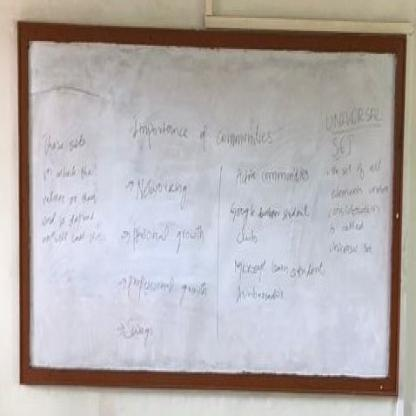Handwritten text: (127, 107, 274, 152), (124, 268, 209, 310), (131, 216, 207, 258), (234, 158, 312, 194), (232, 254, 331, 282), (229, 195, 311, 225), (135, 169, 188, 212), (324, 99, 383, 132), (39, 119, 88, 157), (38, 226, 107, 252), (227, 282, 288, 308), (39, 159, 97, 185), (43, 184, 100, 208), (124, 311, 158, 351), (327, 234, 373, 262), (327, 182, 391, 202), (327, 158, 383, 179), (38, 209, 99, 228), (330, 202, 383, 219), (331, 133, 355, 159), (235, 222, 258, 248), (338, 218, 366, 234)
Whiteboard: (19, 37, 398, 379)
